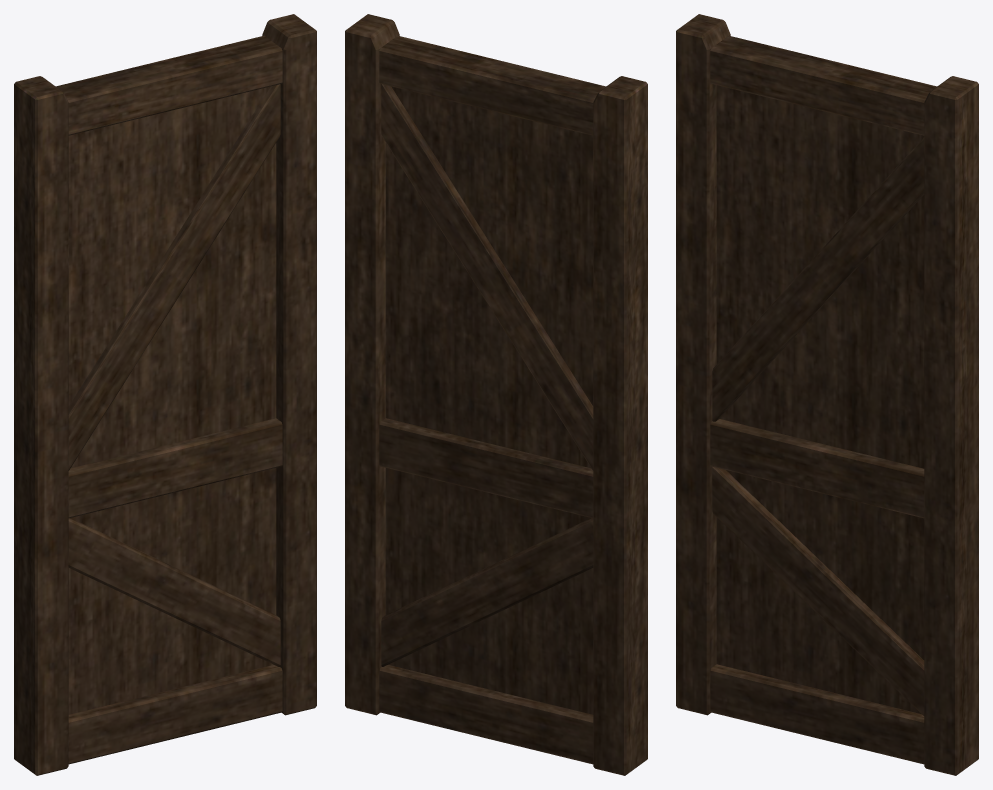
The model's file is mdl_franch_historygate_door.gltf.
The picture shows the model from 3 angles, left to right: view 1: azimuth 30°, elevation 25°; view 2: azimuth 150°, elevation 25°; view 3: azimuth 330°, elevation 25°; orthographic projection.
Parts seen in each view (by area): view 1: defaultMaterial.001; view 2: defaultMaterial.001; view 3: defaultMaterial.001.
Part boxes in pixels (x1,y1,x2,y2): defaultMaterial.001: (14, 14, 316, 775); defaultMaterial.001: (345, 14, 647, 775); defaultMaterial.001: (676, 14, 978, 775).
Size of the model in its own units: 2.41 by 5.54 by 0.3429.
Materials: 1 (1 with a texture image).
